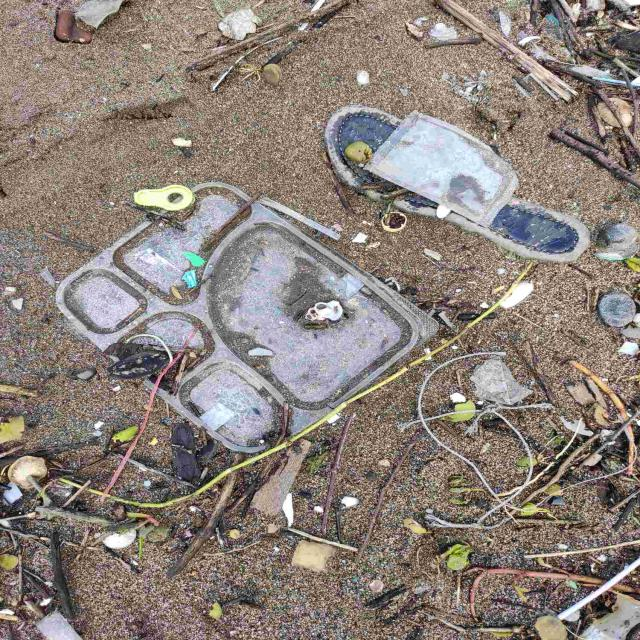ly_hop_giay: (55, 189, 437, 452)
rac_huu_co: (432, 0, 640, 161), (184, 0, 346, 71), (548, 128, 640, 187)
